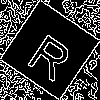R: (25, 25, 80, 83)
